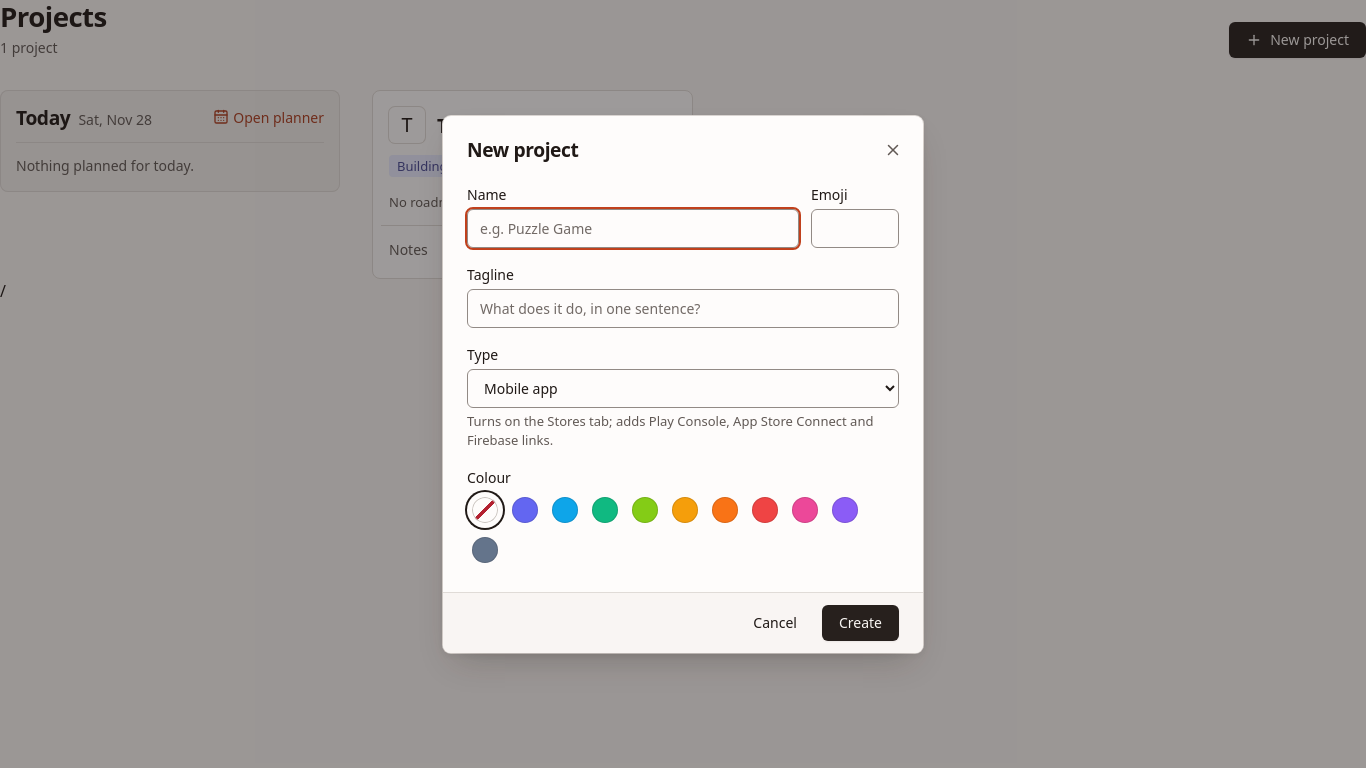
DashboardPage › creates a project with type defaults and opens it
The image size is (1366, 768).
Earlier steps of the test are not shown.
Click the button "Create" at (860, 622), box [822, 604, 899, 640]
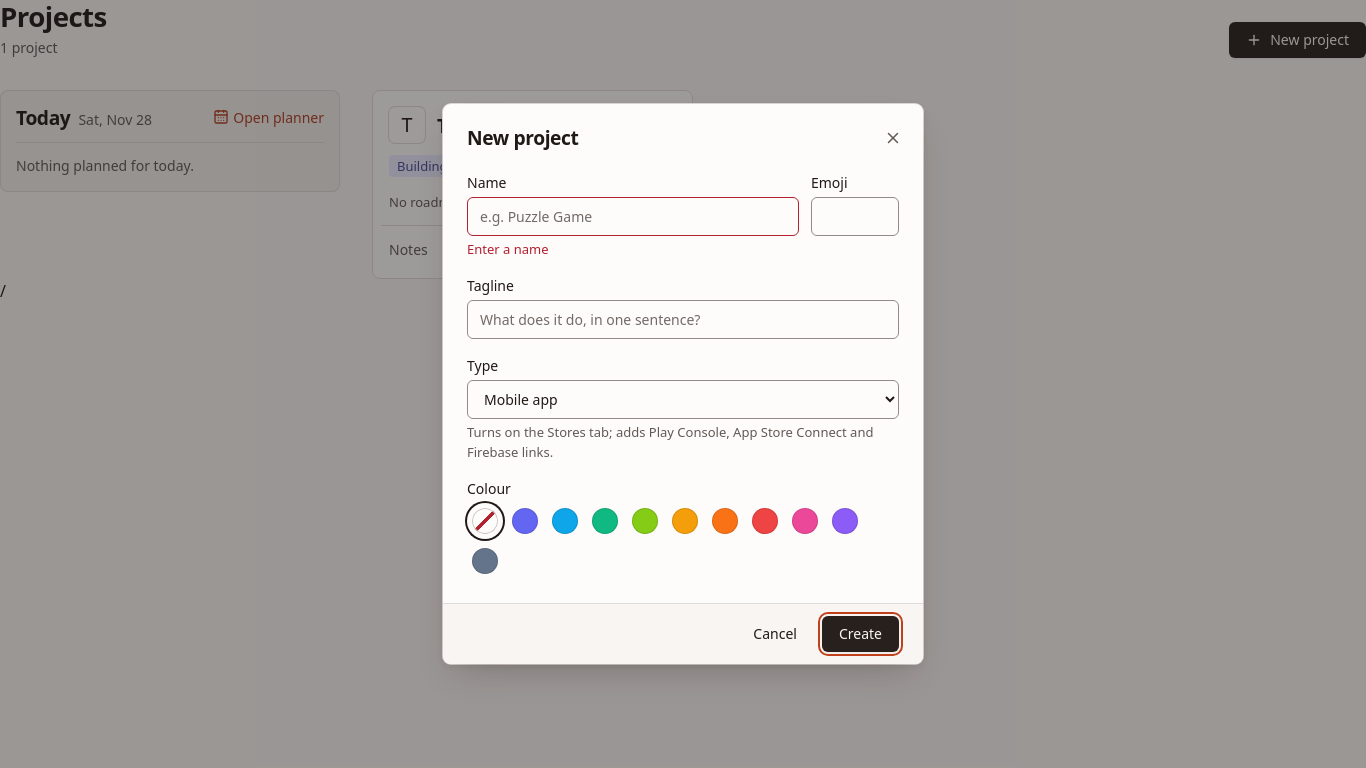
Expected: the text "Enter a name" is shown, [467, 240, 548, 258]
Type "Pebble Quest" into the field labelled "Name" at (633, 216), box [467, 197, 799, 236]
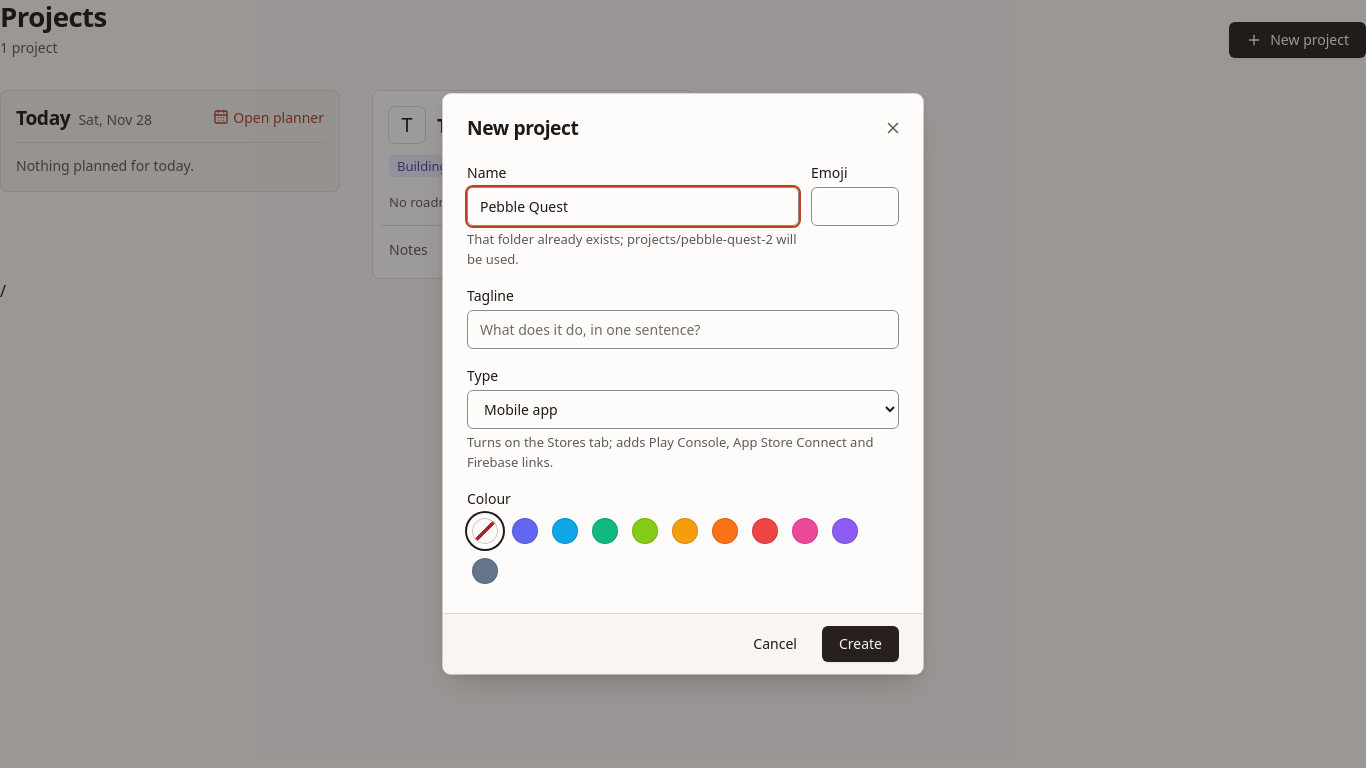
Expected: the text "projects/pebble-quest-2 will be used" is shown, [467, 230, 796, 268]
Type "Daily puzzles" into the field labelled "Tagline" at (683, 330), box [467, 310, 899, 349]
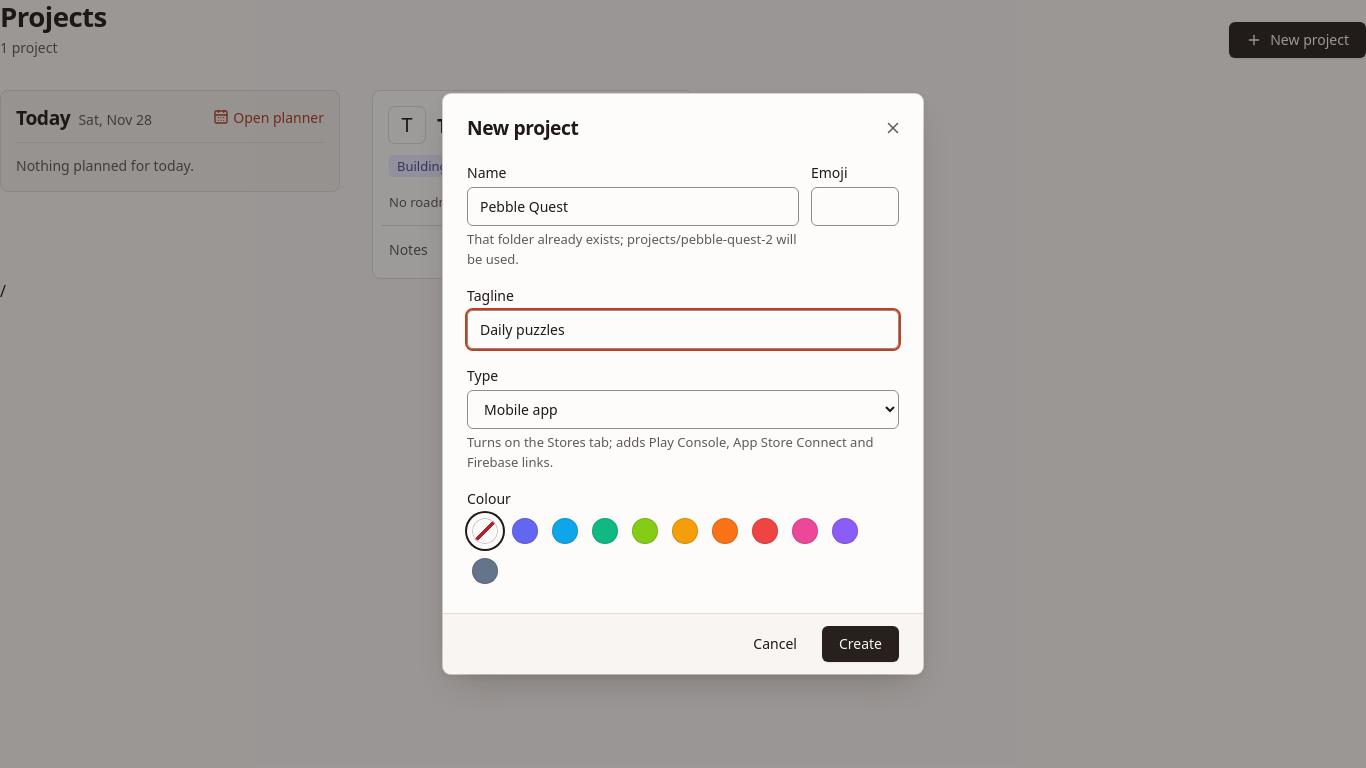
Select "Mobile game" in the dropdown labelled "Type" at (683, 410), box [467, 390, 899, 429]
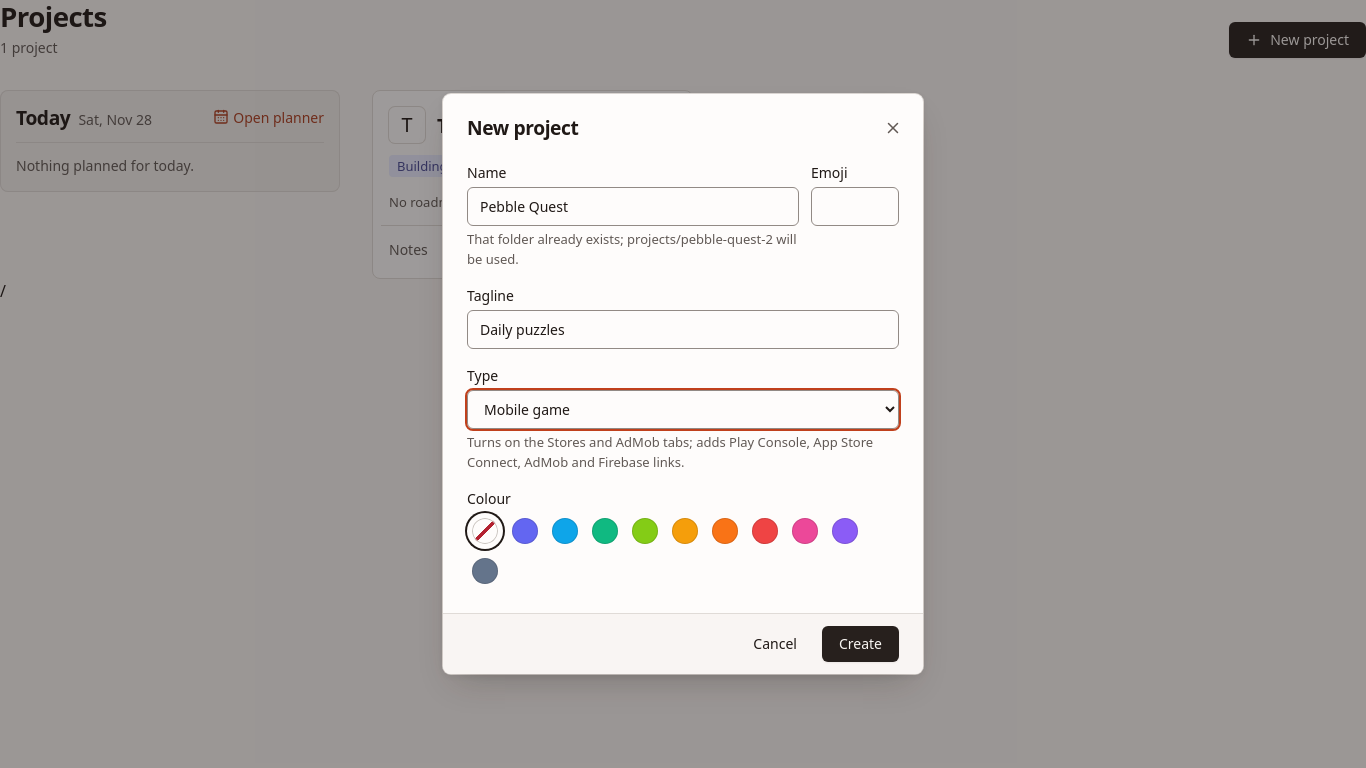
Click the radio button named "Colour 2" at (565, 531), box [552, 518, 578, 544]
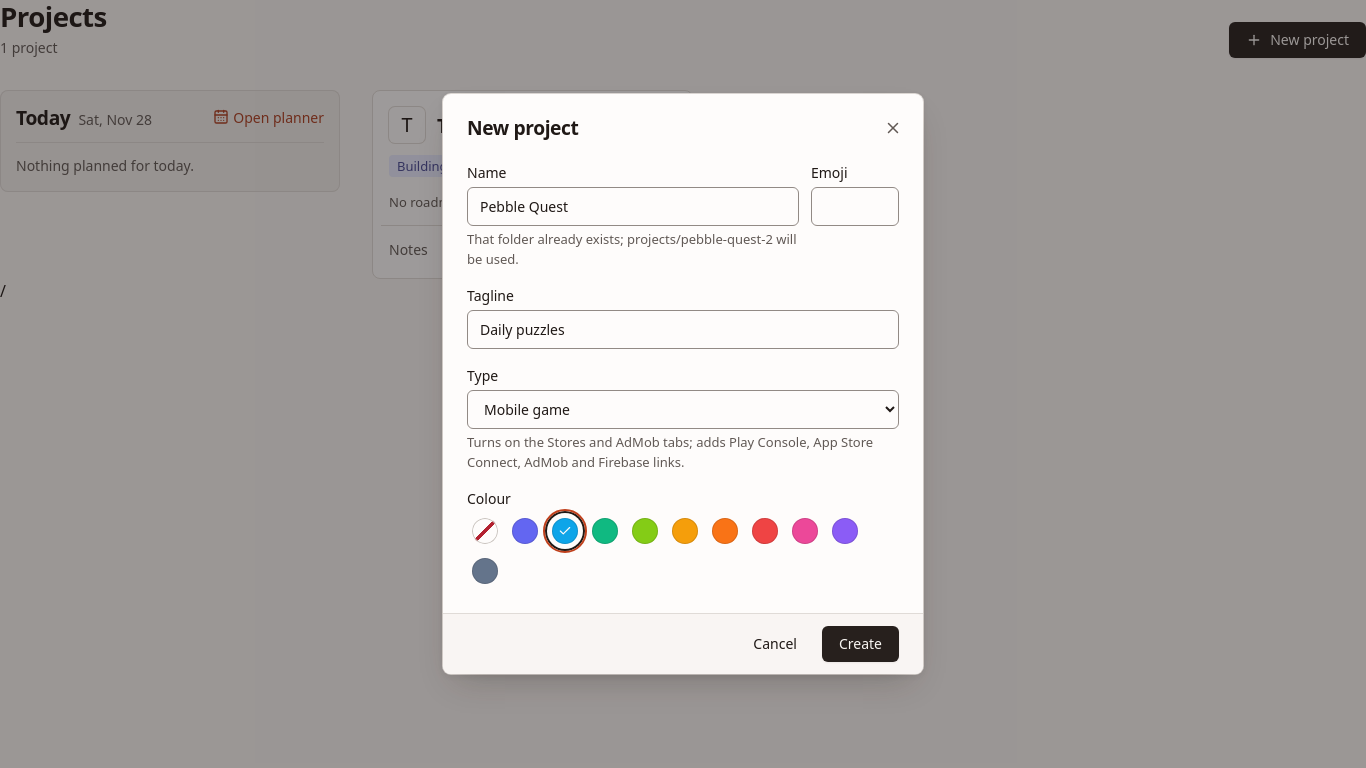
Click the button "Create" at (860, 644), box [822, 626, 899, 662]
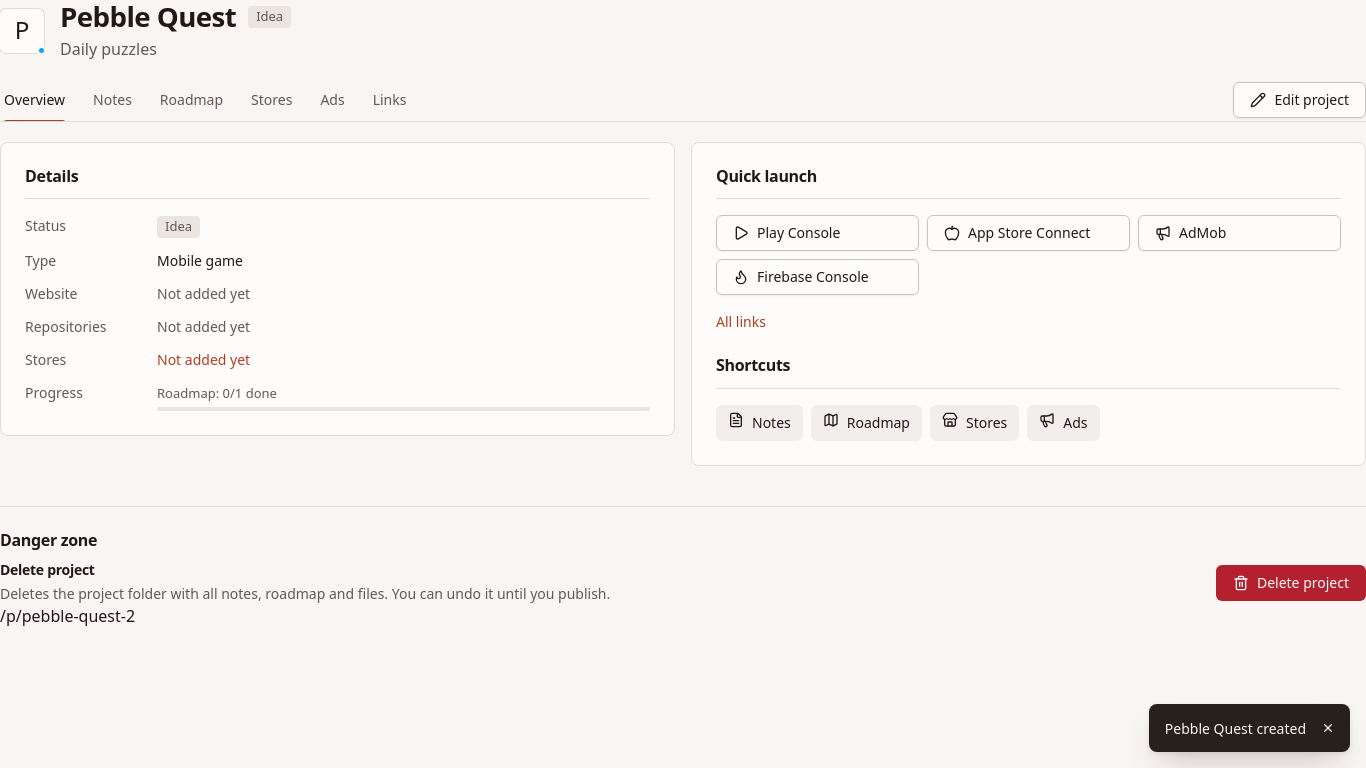
Expected: the text with test id "location" reads "/p/pebble-quest-2", [0, 604, 135, 626]
